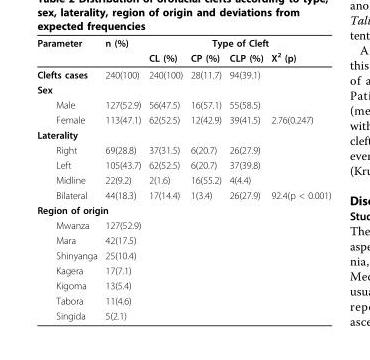table: (36, 36, 330, 320)
table column: (36, 36, 100, 320), (266, 36, 330, 320), (100, 36, 144, 320), (144, 36, 186, 320), (224, 36, 266, 320), (186, 36, 224, 320)
table column header: (36, 36, 330, 65)
table projected row header: (36, 126, 330, 142), (36, 81, 330, 96), (36, 202, 330, 217)
table row: (36, 49, 330, 65), (36, 65, 330, 81), (36, 126, 330, 142), (36, 81, 330, 96), (36, 96, 330, 111), (36, 111, 330, 126), (36, 142, 330, 157), (36, 157, 330, 172), (36, 172, 330, 187), (36, 187, 330, 202), (36, 202, 330, 217), (36, 217, 330, 232), (36, 232, 330, 247), (36, 247, 330, 262), (36, 262, 330, 277), (36, 277, 330, 292), (36, 292, 330, 307), (36, 36, 330, 49), (36, 307, 330, 320)
table spanning cell: (144, 36, 330, 49), (36, 36, 100, 65), (100, 36, 144, 65)
